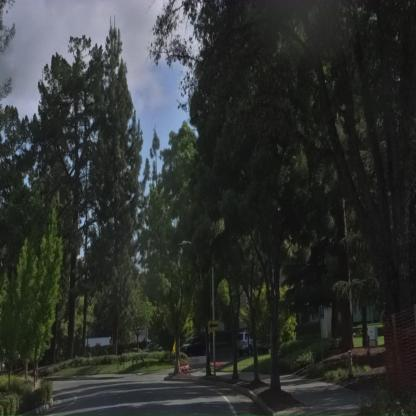car: (231, 320, 261, 359)
